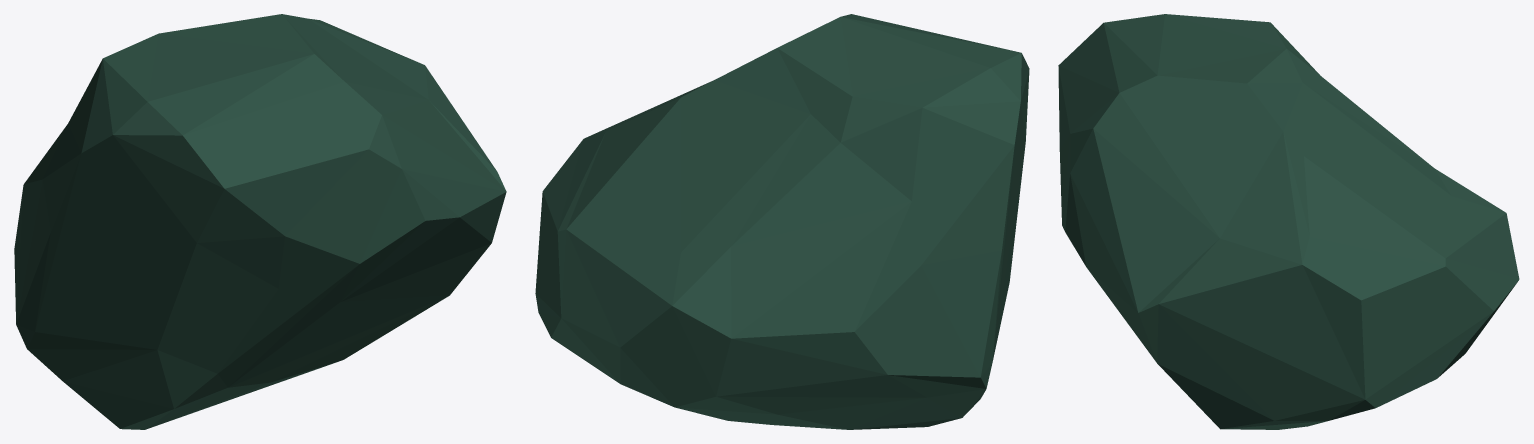
The model's file is SM_large_rock_34.fbx.
3 views of the same model, side by side, from view 1: azimuth 30°, elevation 25°; view 2: azimuth 150°, elevation 25°; view 3: azimuth 270°, elevation 25° (orthographic). The views are drawn at different scales.
Visible parts, largest first — view 1: large_rock_34; view 2: large_rock_34; view 3: large_rock_34.
Boxes of the visible parts, x1,y1,x2,y2 form: large_rock_34: [14, 14, 506, 429]; large_rock_34: [535, 14, 1029, 429]; large_rock_34: [1058, 14, 1519, 429].
Bounding box in the file's own units: 51.07 × 42.28 × 52.49.
